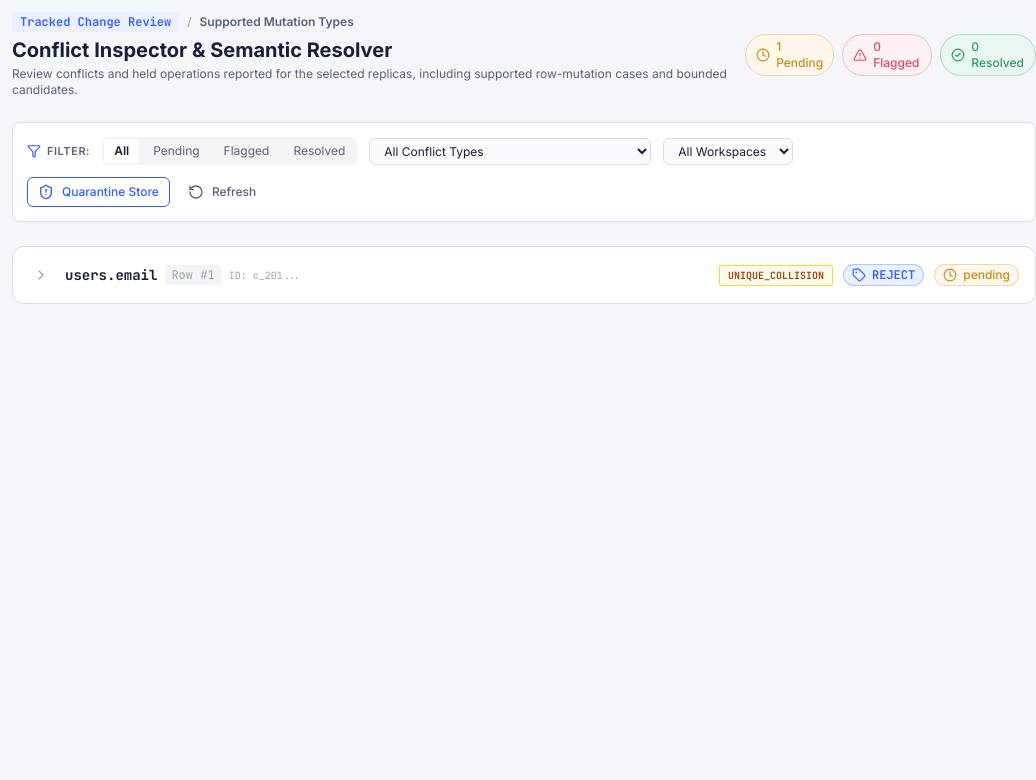
Test: Phase 7 Integration Tests › Conflicts View Tests › displays full conflict mutation details and expands to view payload values
Note: Expand the conflict accordion
Click the text "users.email". click: (111, 275)
box: [65,265,157,285]
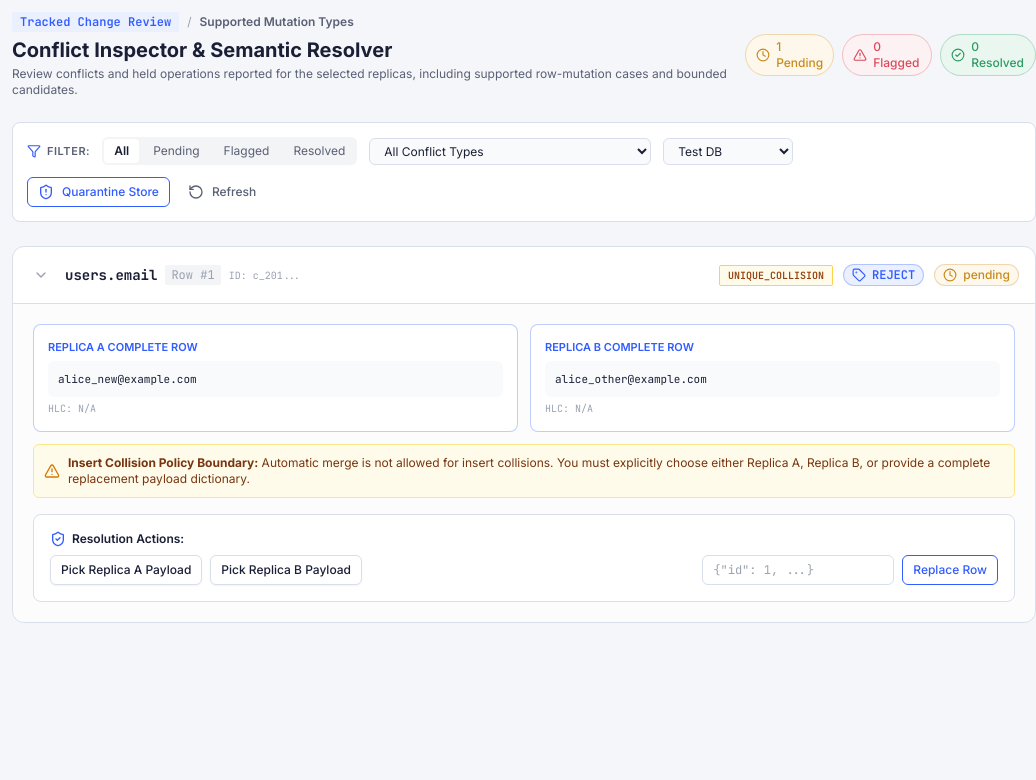
Result: the text "alice_new@example.com" is shown at [48,361,503,397]
Result: the text "alice_other@example.com" is shown at [545,361,1000,397]
